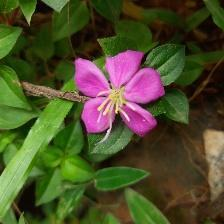malabar melastome: (74, 53, 168, 141)
